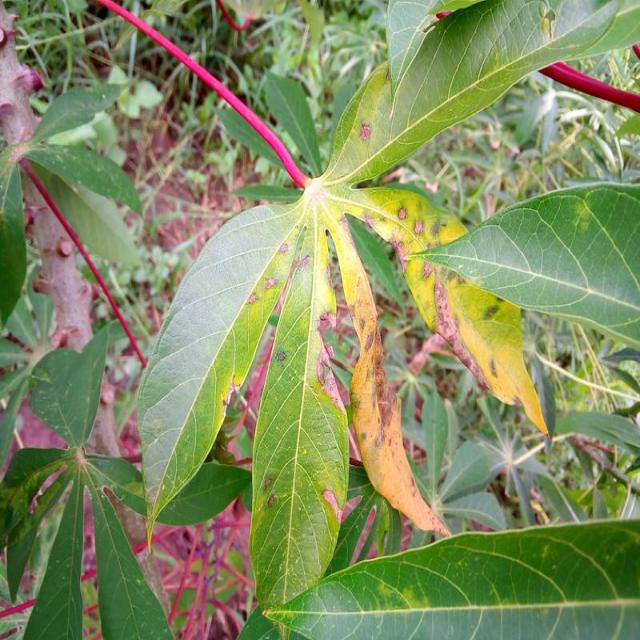cassava leaf: (102, 1, 638, 636), (257, 517, 638, 638), (405, 179, 639, 353)
